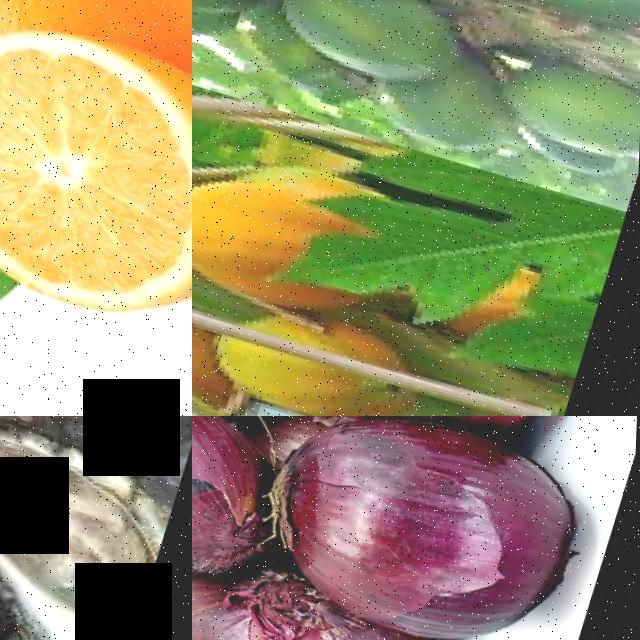onion: (246, 416, 595, 640), (192, 558, 458, 640), (192, 416, 295, 610)
orange: (0, 0, 192, 87)
oysters: (0, 416, 185, 593)
pawpaw: (203, 298, 427, 416), (192, 157, 326, 306), (276, 0, 469, 93), (493, 47, 640, 161), (368, 63, 515, 161), (501, 0, 640, 31)
